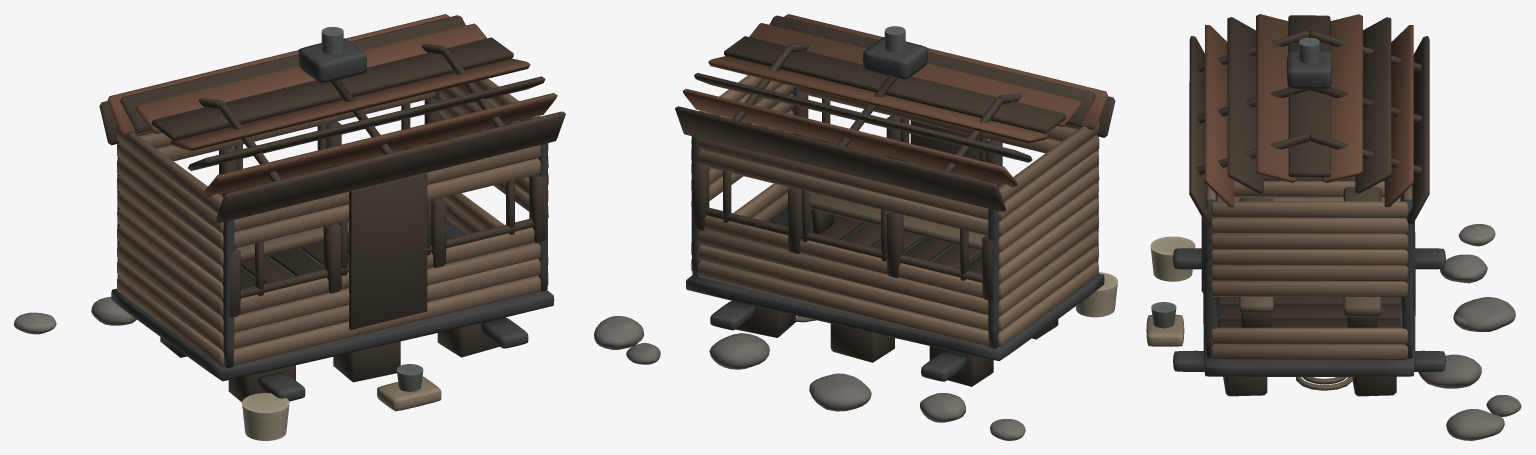
File: tram_car_parked_b.glb
3 views of the same model, side by side, from view 1: azimuth 30°, elevation 25°; view 2: azimuth 150°, elevation 25°; view 3: azimuth 270°, elevation 25° (orthographic). The views are drawn at different scales.
Parts seen in each view (by area): view 1: Surface; view 2: Surface; view 3: Surface.
Part boxes in pixels (x1,y1,x2,y2): Surface: (14, 14, 565, 440); Surface: (594, 14, 1117, 440); Surface: (1146, 14, 1521, 440).
Bounding box in the file's own units: 6.53 × 4.38 × 4.95.
